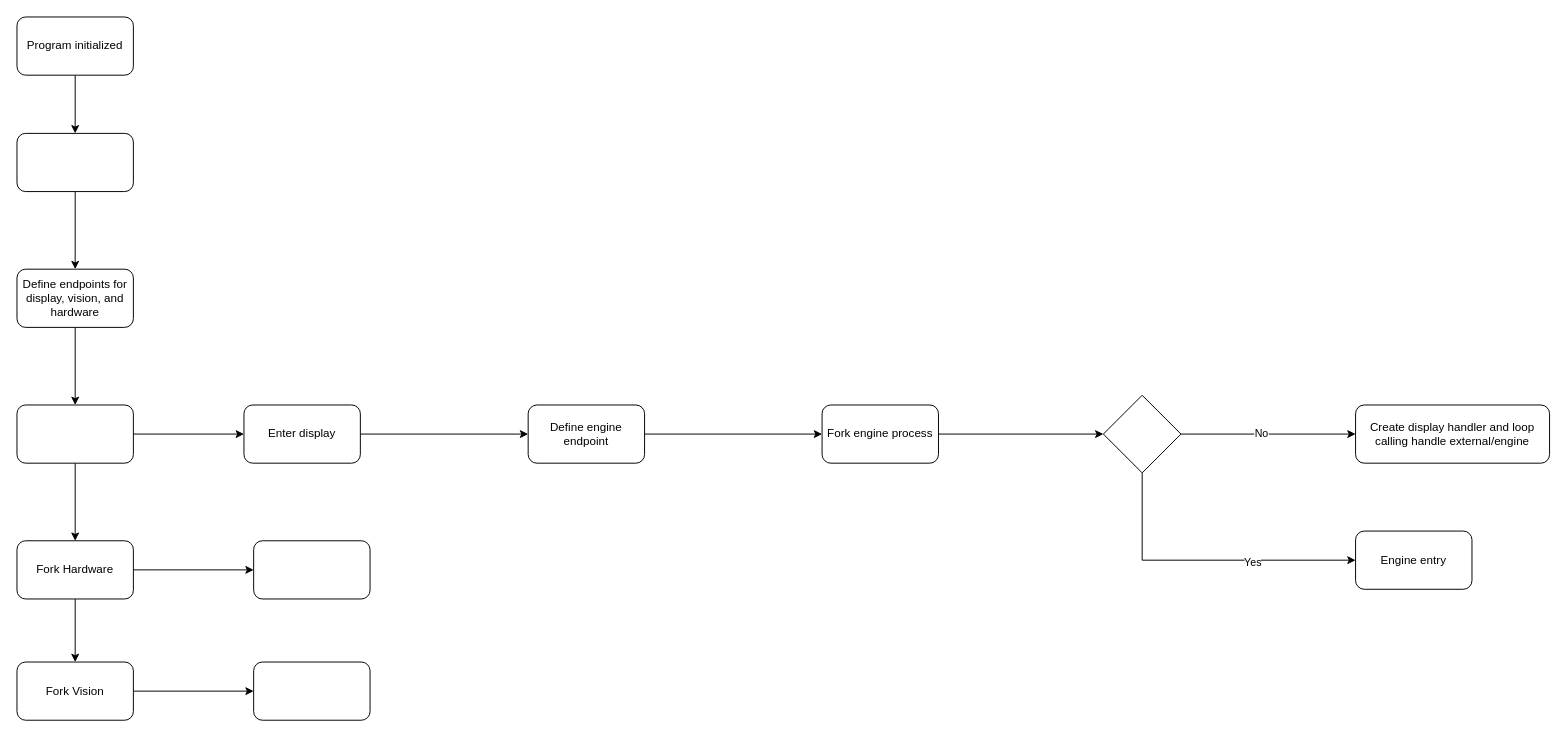
The diagram is 1567 pixels wide and 737 high, and some of its shapes have lost their labels. Each missing label, with the centre of its shape:
"Create zeroMQ context" goes at pixel 74 162.
"Enter Hardware" goes at pixel 311 569.
"Enter Vision" goes at pixel 311 690.
"Fork Display" goes at pixel 74 433.
"In engine process?" goes at pixel 1141 433.
